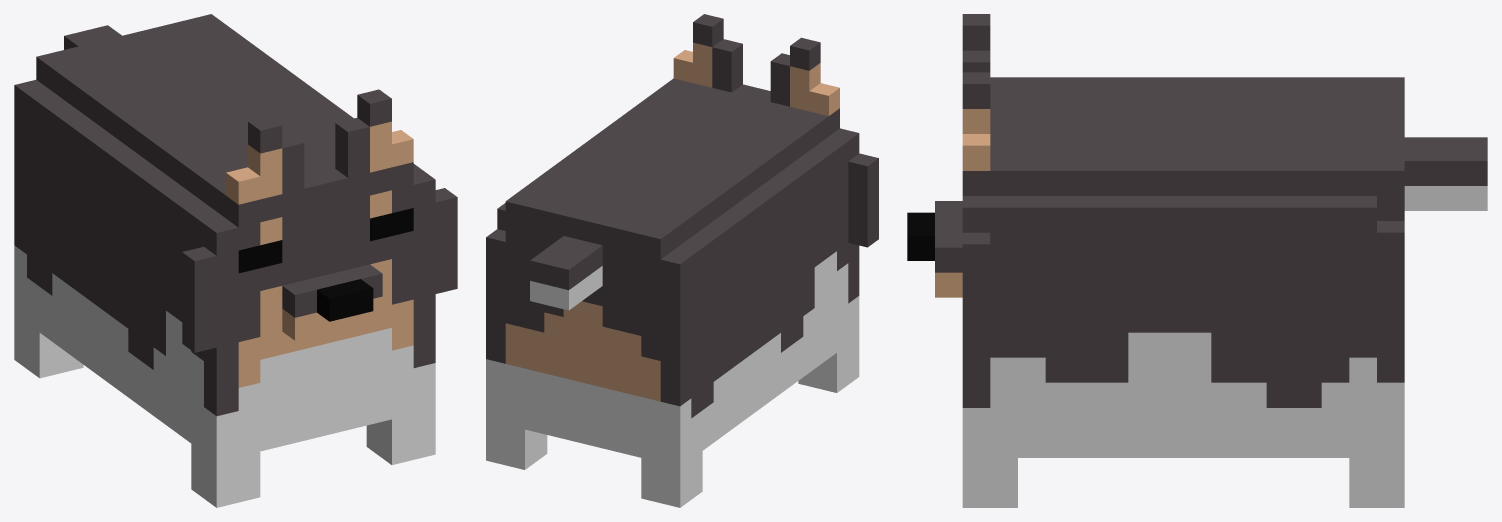
File: collie.gltf
3 renders of one model, left to right at view 1: azimuth 30°, elevation 25°; view 2: azimuth 150°, elevation 25°; view 3: azimuth 270°, elevation 25°, orthographic. The views are drawn at different scales.
Parts seen in each view (by area): view 1: unnamed_mesh1; view 2: unnamed_mesh1; view 3: unnamed_mesh1.
Part boxes in pixels (x1,y1,x2,y2): unnamed_mesh1: (14, 14, 457, 507); unnamed_mesh1: (486, 14, 878, 507); unnamed_mesh1: (907, 14, 1487, 507).
Bounding box in the file's own units: 12 × 16 × 21.
Materials: 1 (1 with a texture image).
